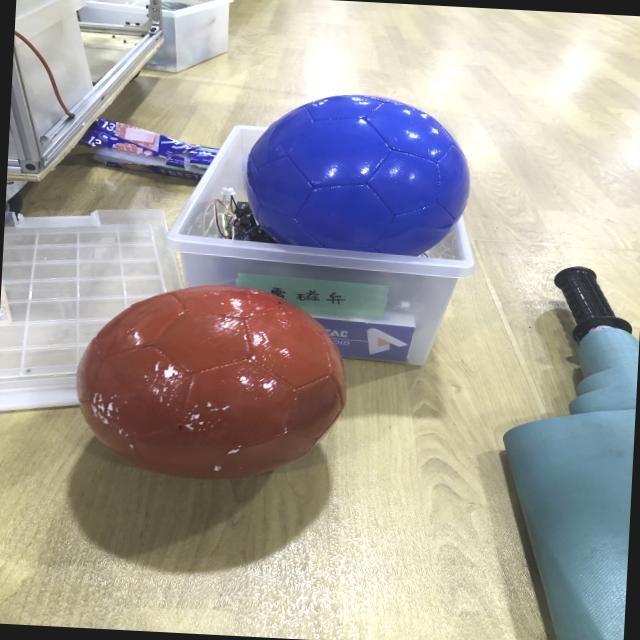blue_ball: (242, 88, 476, 256)
red_ball: (77, 278, 345, 486)
